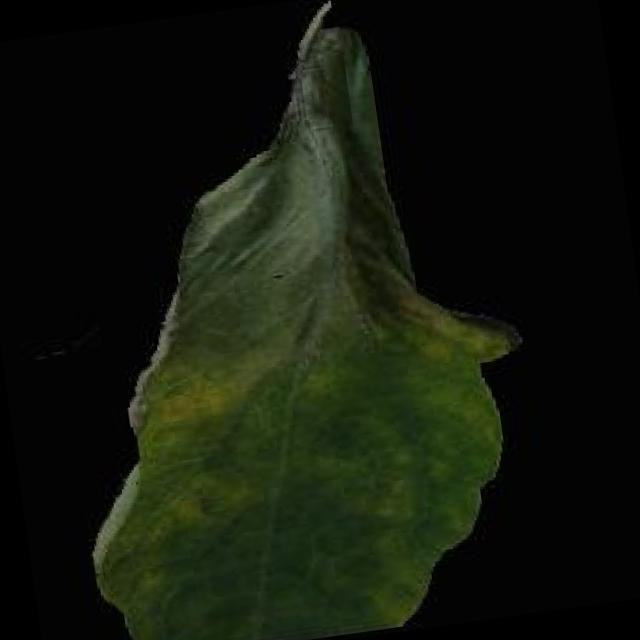Tomato_Late_Blight: (241, 0, 528, 404)
